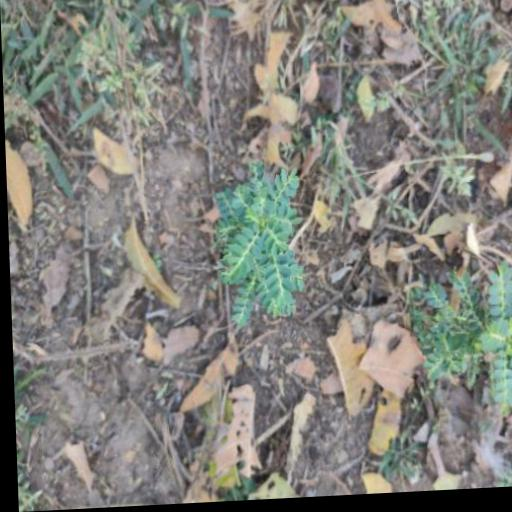weed: (190, 130, 333, 334), (398, 262, 512, 399)
